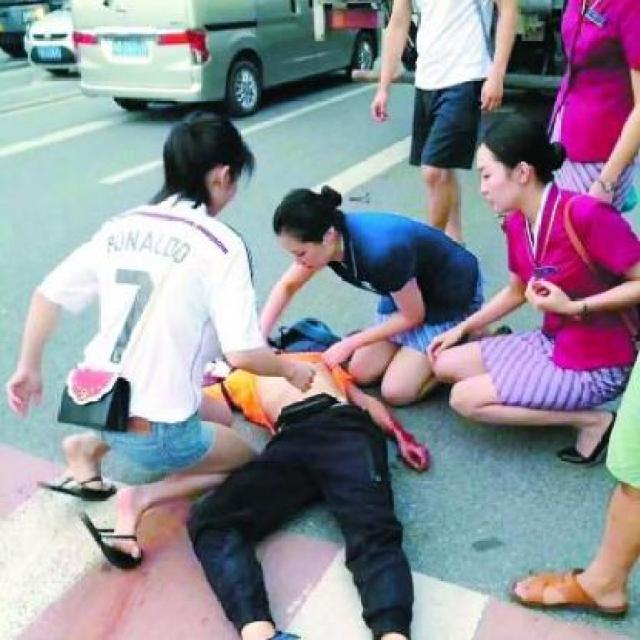fall: (179, 316, 443, 638)
